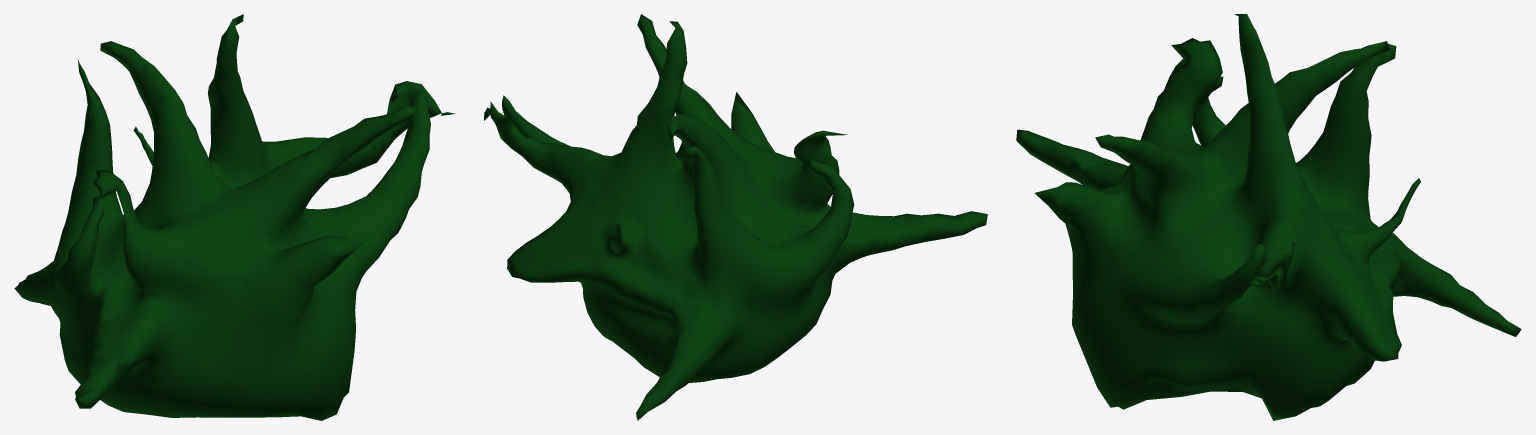
The model's file is jump_cthulhu_0015.obj.
The picture shows the model from 3 angles, left to right: view 1: azimuth 30°, elevation 25°; view 2: azimuth 150°, elevation 25°; view 3: azimuth 270°, elevation 25°; orthographic projection. The views are drawn at different scales.
Parts seen in each view (by area): view 1: Cube; view 2: Cube; view 3: Cube.
Boxes of the visible parts, x1,y1,x2,y2 form: Cube: (14,14,455,420); Cube: (484,14,987,420); Cube: (1016,14,1521,420).
Bounding box in the file's own units: 1.26 × 0.9321 × 1.08.
